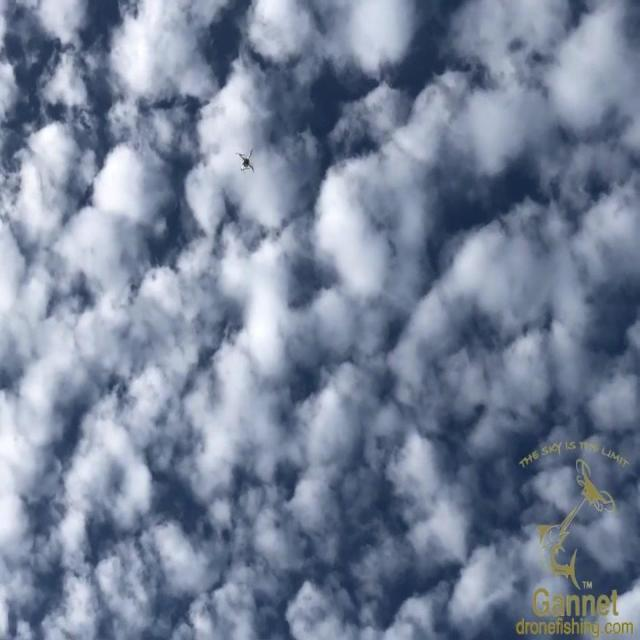UAV: (234, 150, 254, 173)
